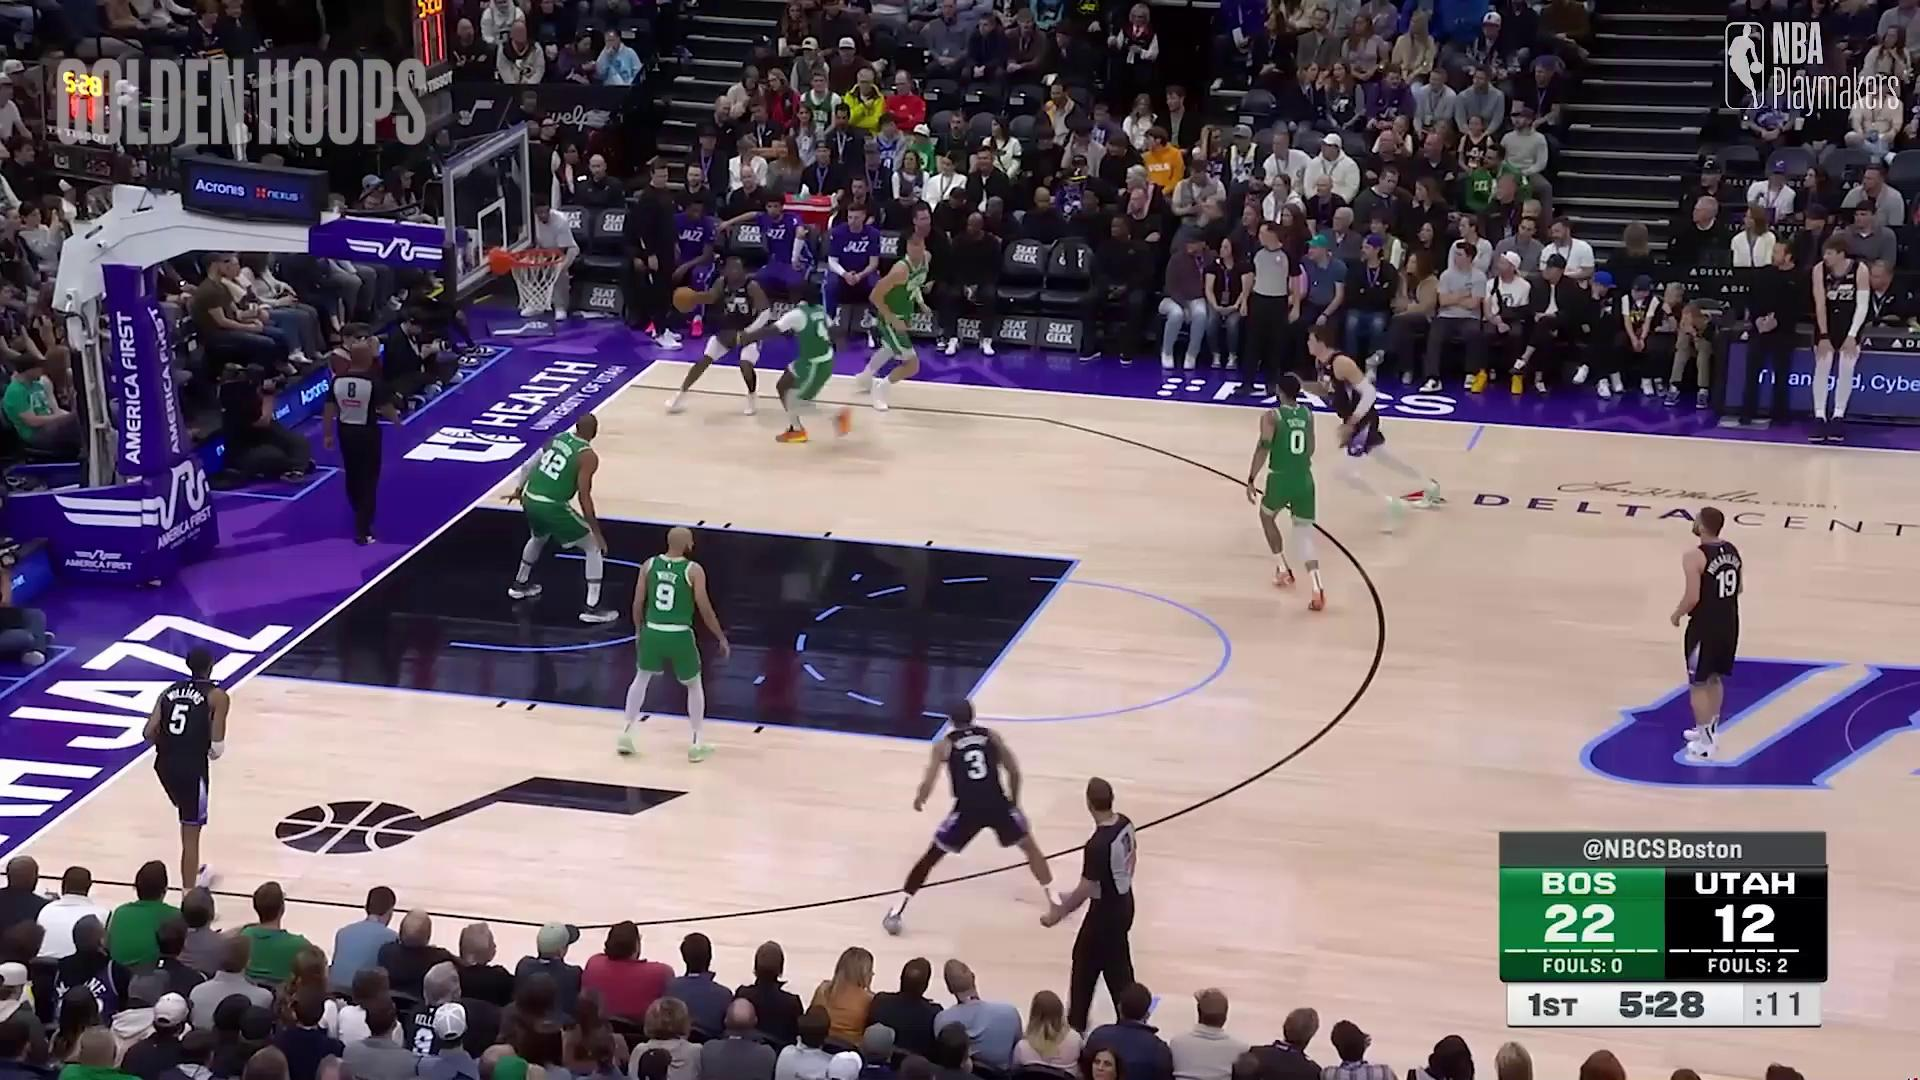ball: (675, 287, 695, 315)
hoop: (510, 236, 563, 314)
